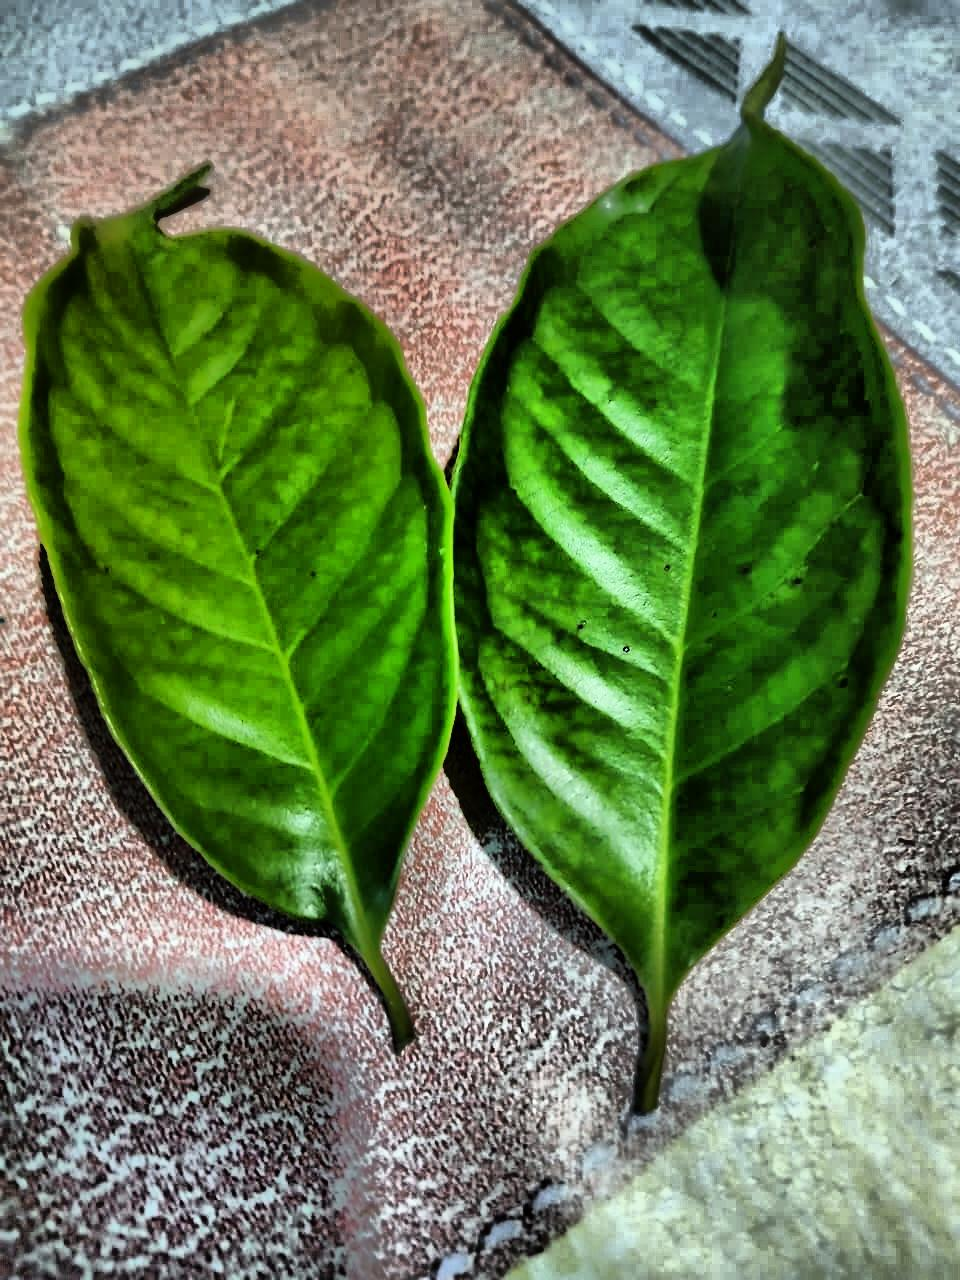daun salam: (21, 72, 907, 1102)
